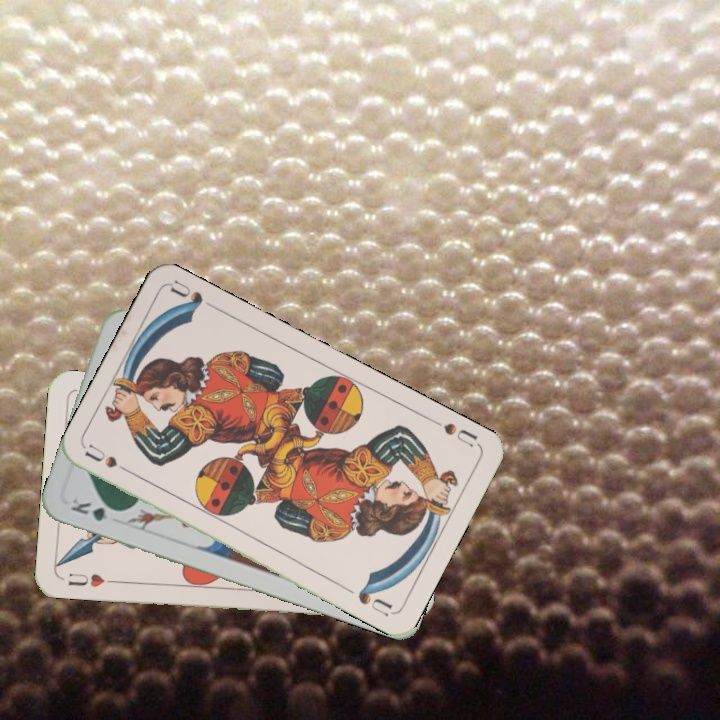GK: (66, 494, 124, 524)
HU: (64, 569, 118, 590)
SU: (81, 440, 138, 479), (439, 418, 480, 450)
